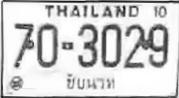0: (36, 22, 57, 67), (101, 23, 120, 67)
2: (122, 24, 146, 68)
3: (77, 23, 97, 67)
7: (13, 22, 34, 68)
9: (146, 23, 168, 67)
CNT: (63, 70, 118, 92)
